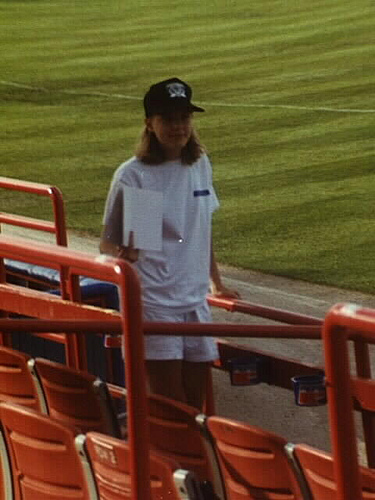without_mask: (145, 100, 199, 155)
